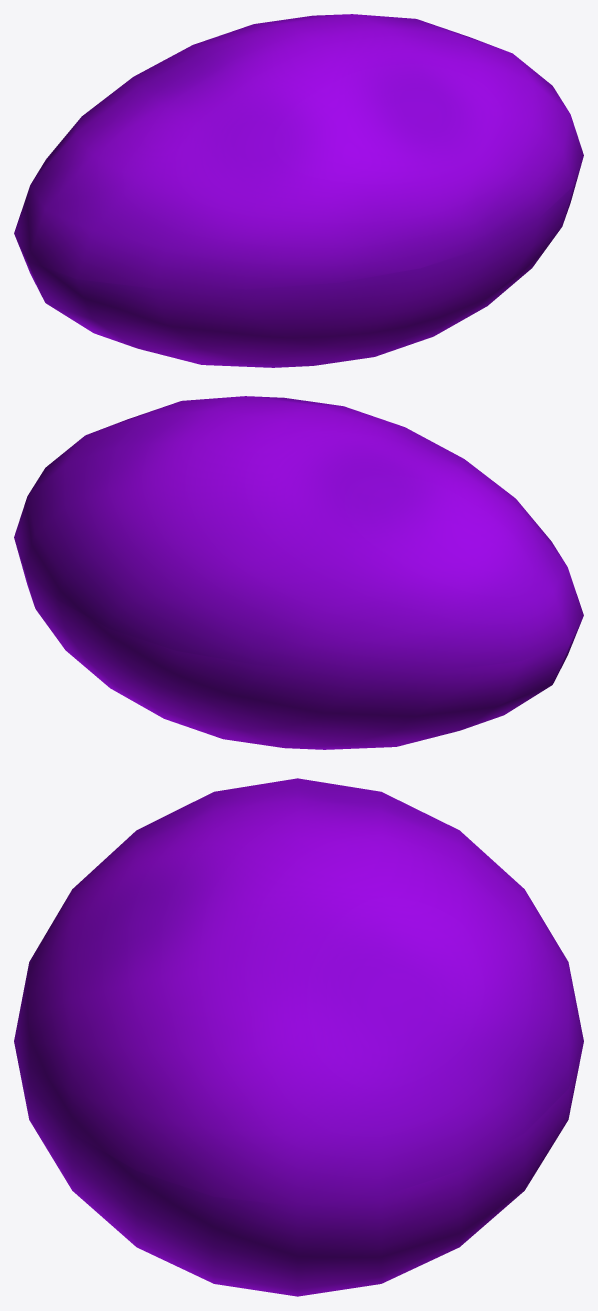
Rendered from Steen paars.FBX.
3 views of the same model, one above another, from view 1: azimuth 30°, elevation 25°; view 2: azimuth 150°, elevation 25°; view 3: azimuth 270°, elevation 25° (orthographic). The views are drawn at different scales.
Parts seen in each view (by area): view 1: Steen paars; view 2: Steen paars; view 3: Steen paars.
Part boxes in pixels (box(x1,y1,x2,y2)): Steen paars: box(14, 14, 583, 367); Steen paars: box(14, 396, 583, 749); Steen paars: box(14, 778, 583, 1296).
Size of the model in its own units: 88.39 by 47.32 by 60.47.
1 material, 1 textured.
